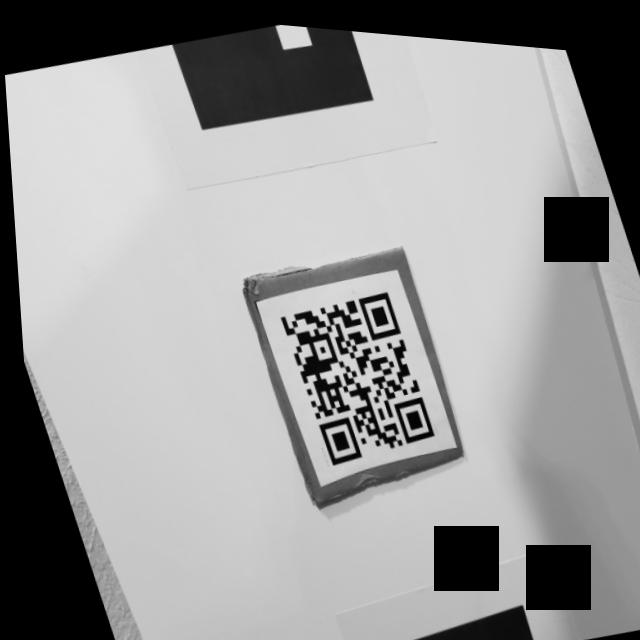QR_CODE: (264, 263, 444, 479)
